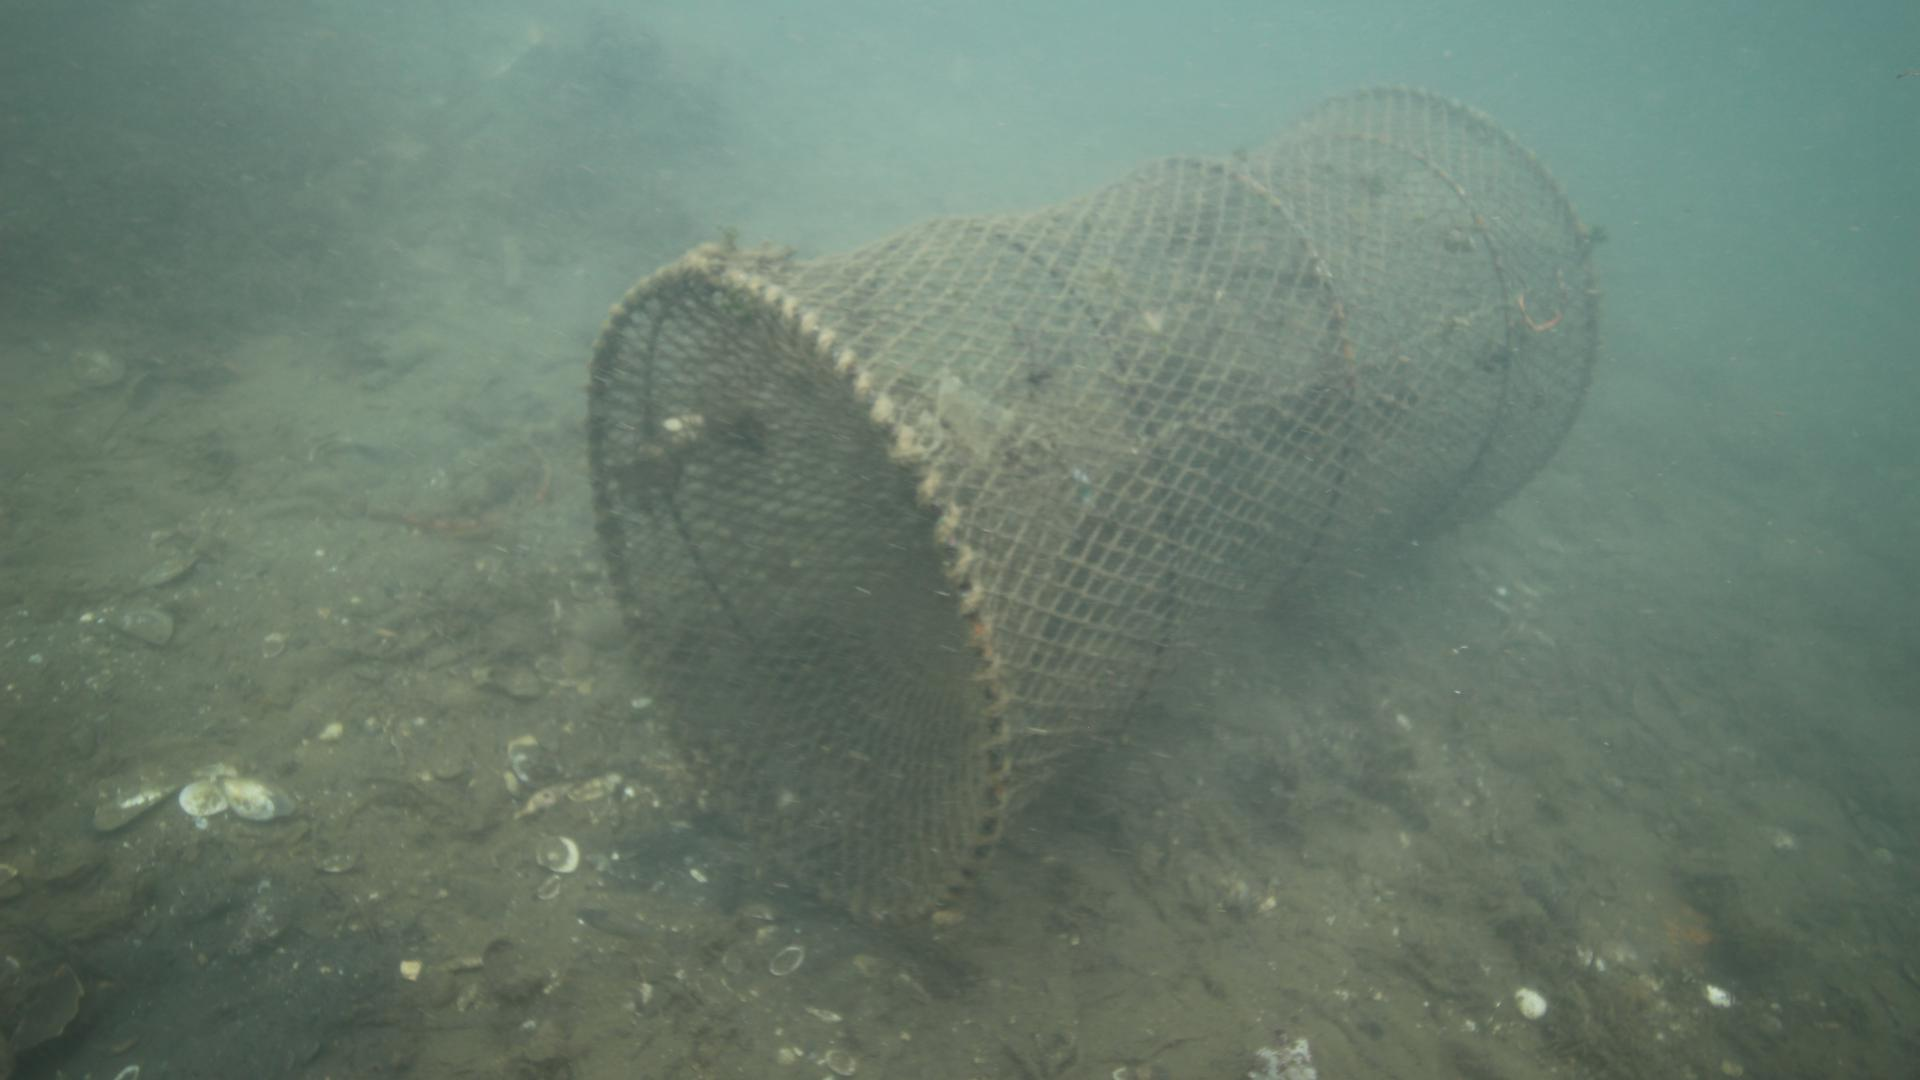spring fish trap: (582, 80, 1606, 938)
